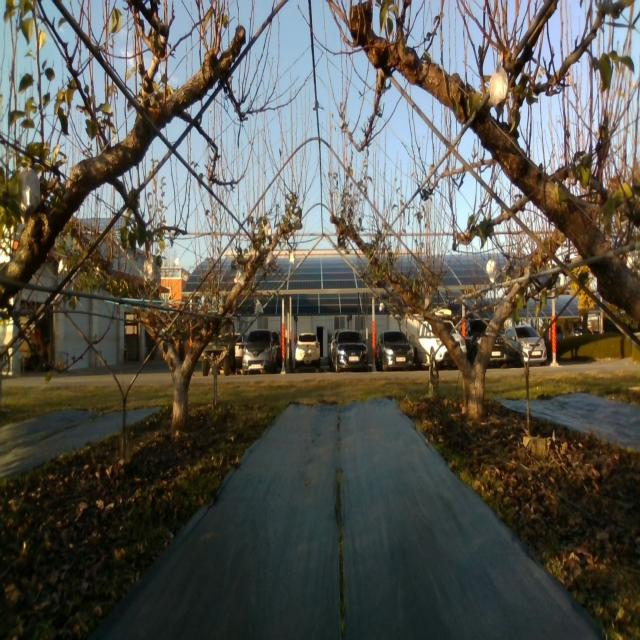pearbags: (489, 64, 508, 117), (18, 167, 41, 210), (144, 255, 162, 285), (487, 260, 498, 284)
